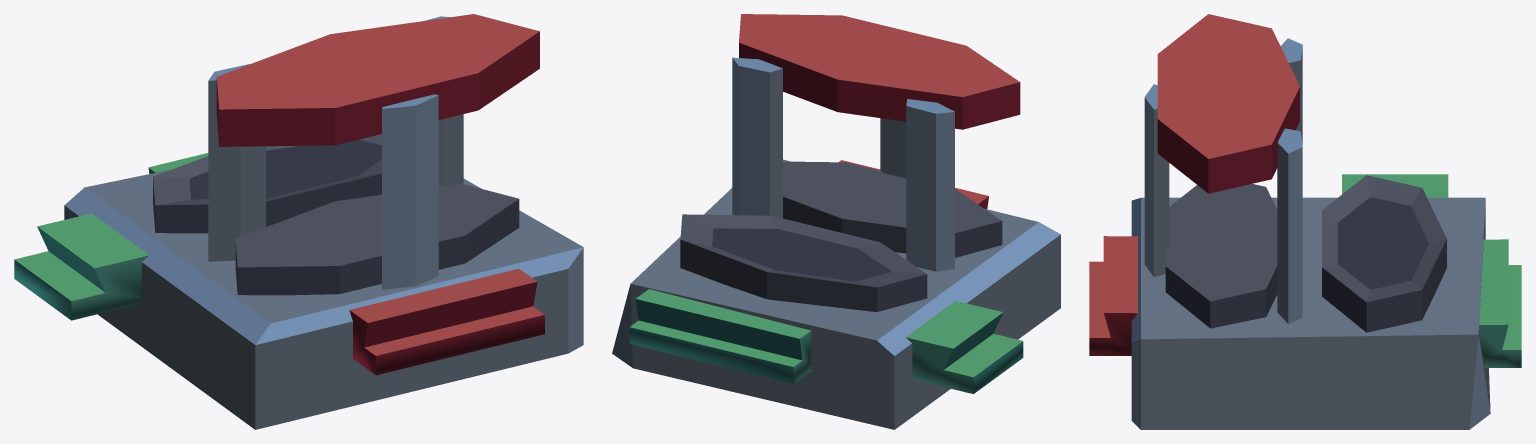
File: assembler_UV.fbx
The picture shows the model from 3 angles, left to right: view 1: azimuth 30°, elevation 25°; view 2: azimuth 150°, elevation 25°; view 3: azimuth 270°, elevation 25°; orthographic projection. The views are drawn at different scales.
Parts seen in each view (by area): view 1: assembler; view 2: assembler; view 3: assembler.
Part boxes in pixels (x1=…): assembler: x1=14, y1=14, x2=583, y2=429; assembler: x1=612, y1=14, x2=1060, y2=429; assembler: x1=1089, y1=14, x2=1521, y2=429.
Size of the model in its own units: 190 by 130 by 190.
